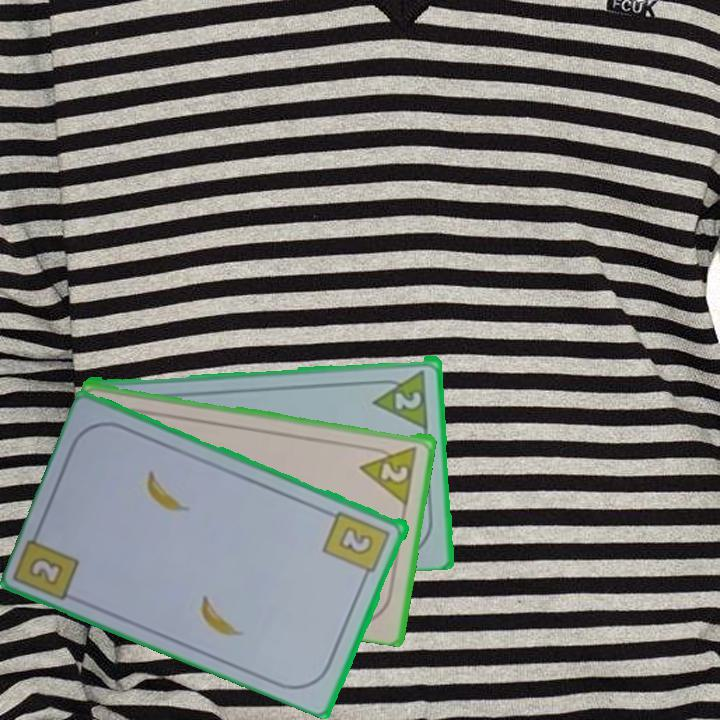2b: (320, 507, 394, 584), (24, 553, 67, 589)
2p: (357, 442, 421, 505), (391, 386, 425, 412)
